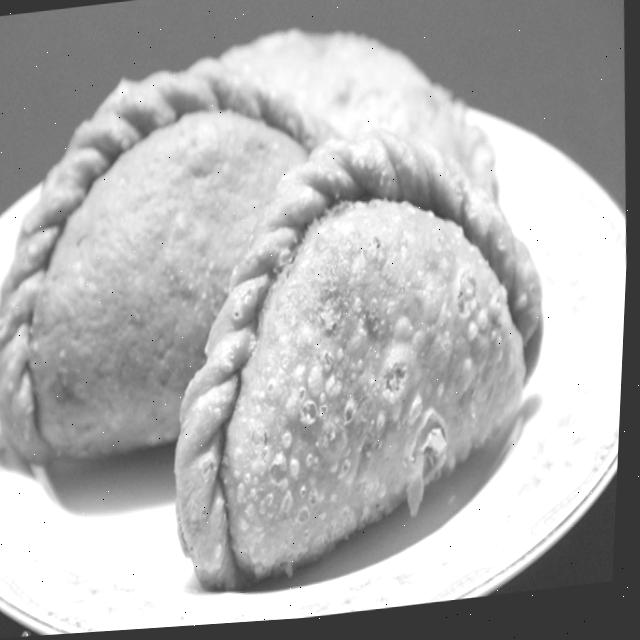炸货点心: (0, 0, 593, 640)
